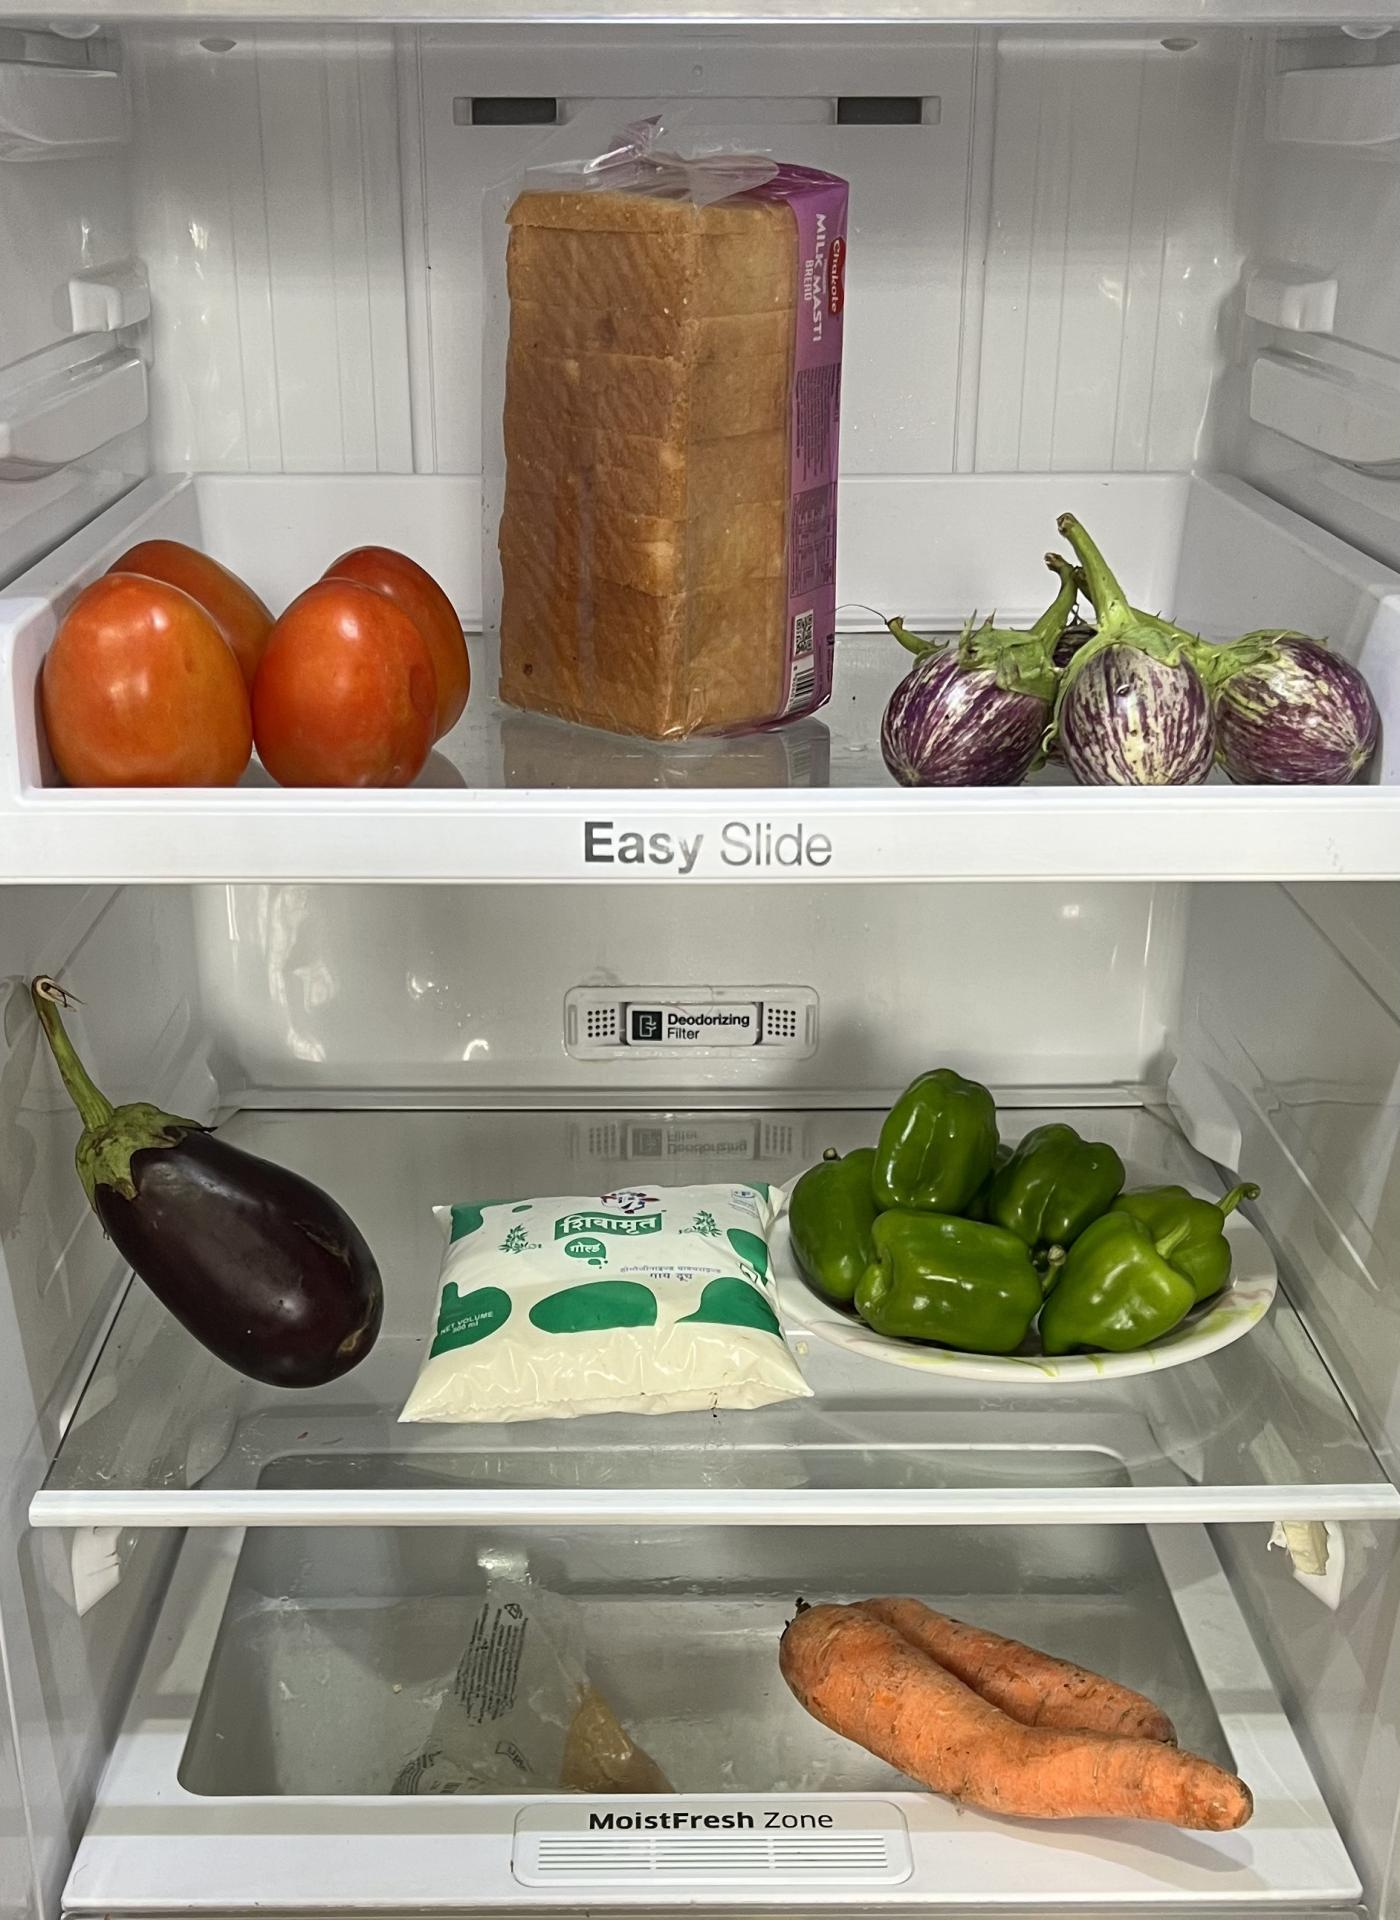bread: (505, 177, 833, 729)
capsicum: (792, 1067, 1260, 1357)
carrots: (769, 1579, 1257, 1838)
milk: (428, 1185, 784, 1424)
tomato: (39, 537, 476, 795)
